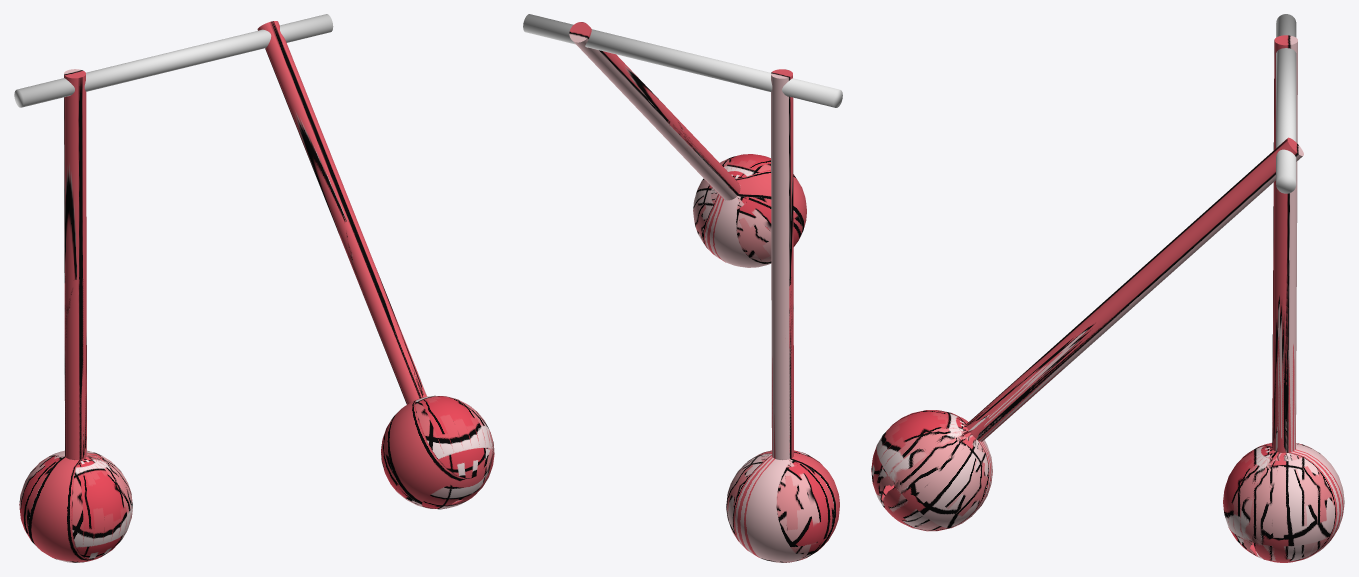
File: pendule_couples.fbx
3 views of the same model, side by side, from view 1: azimuth 30°, elevation 25°; view 2: azimuth 150°, elevation 25°; view 3: azimuth 270°, elevation 25° (orthographic). The views are drawn at different scales.
Visible parts, largest first — view 1: Pendule1, Pendule2, Axe; view 2: Pendule2, Pendule1, Axe; view 3: Pendule1, Pendule2, Axe.
Boxes of the visible parts, x1,y1,x2,y2 form: Pendule1: (257,21,494,509); Pendule2: (19,69,132,562); Axe: (14,14,333,107); Pendule2: (726,69,839,562); Pendule1: (569,22,806,267); Axe: (523,14,842,107); Pendule1: (871,137,1303,531); Pendule2: (1223,35,1344,562); Axe: (1276,14,1296,193).
Size of the model in its own units: 6.28 by 9.45 by 7.78.
Materials: 3 (2 with a texture image).
